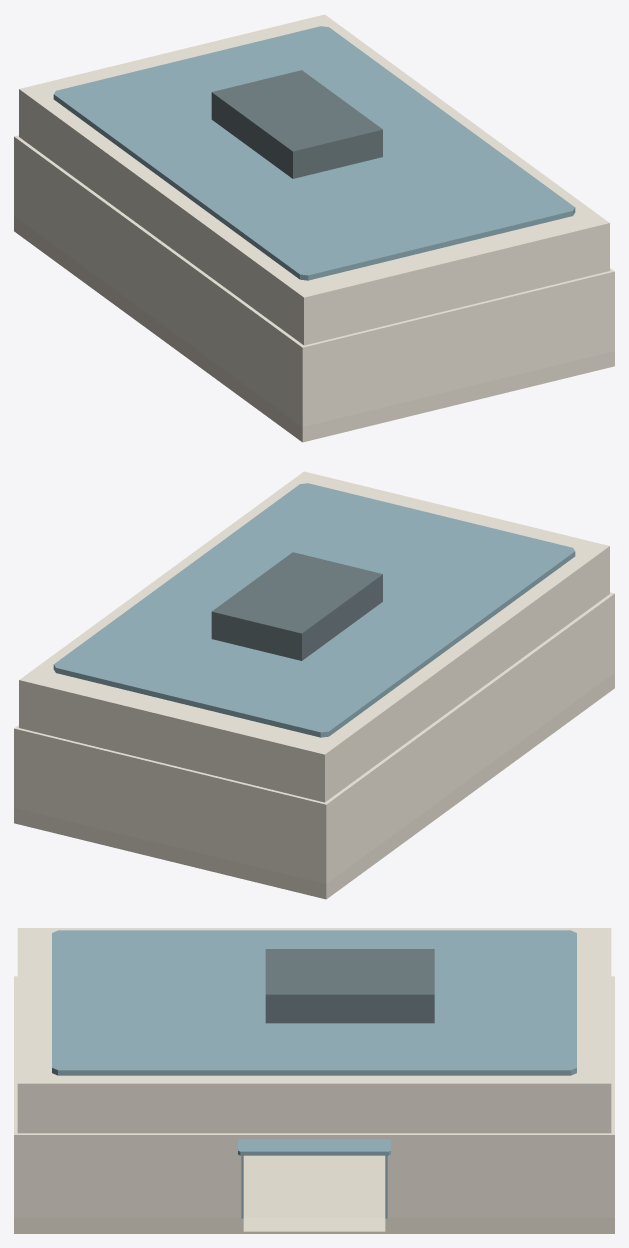
Rendered from Karden_Market_ShadowProxy.glb.
3 views of the same model, one above another, from view 1: azimuth 30°, elevation 25°; view 2: azimuth 150°, elevation 25°; view 3: azimuth 270°, elevation 25° (orthographic). The views are drawn at different scales.
Visible parts, largest first — view 1: Karden_Market_ShadowProxy / Structure, Karden_Market_ShadowProxy / Roof, Karden_Market_ShadowProxy / Foundation; view 2: Karden_Market_ShadowProxy / Structure, Karden_Market_ShadowProxy / Roof, Karden_Market_ShadowProxy / Foundation; view 3: Karden_Market_ShadowProxy / Structure, Karden_Market_ShadowProxy / Roof, Karden_Market_ShadowProxy / Foundation, Karden_Market_ShadowProxy / Entrance modules.
Part boxes in pixels (x1=…): Karden_Market_ShadowProxy / Structure: x1=14, y1=14, x2=614, y2=426; Karden_Market_ShadowProxy / Roof: x1=53, y1=26, x2=575, y2=280; Karden_Market_ShadowProxy / Foundation: x1=14, y1=216, x2=614, y2=442; Karden_Market_ShadowProxy / Structure: x1=14, y1=471, x2=614, y2=883; Karden_Market_ShadowProxy / Roof: x1=53, y1=483, x2=575, y2=737; Karden_Market_ShadowProxy / Foundation: x1=14, y1=673, x2=614, y2=899; Karden_Market_ShadowProxy / Structure: x1=14, y1=928, x2=614, y2=1217; Karden_Market_ShadowProxy / Roof: x1=52, y1=930, x2=576, y2=1075; Karden_Market_ShadowProxy / Foundation: x1=14, y1=1155, x2=614, y2=1233; Karden_Market_ShadowProxy / Entrance modules: x1=238, y1=1139, x2=390, y2=1233.
Bounding box in the file's own units: 16.2 × 8.05 × 24.
